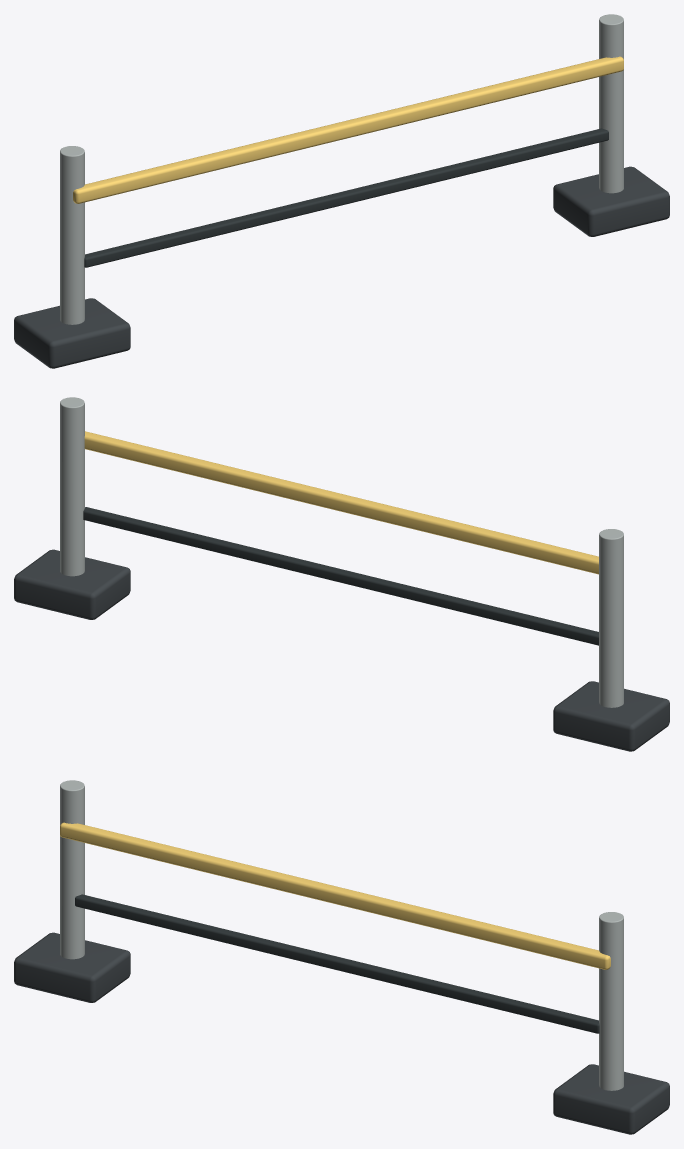
Rendered from age_museum_low_barrier.glb.
The picture shows the model from 3 angles, top to bottom: view 1: azimuth 30°, elevation 25°; view 2: azimuth 150°, elevation 25°; view 3: azimuth 330°, elevation 25°; orthographic projection.
Parts seen in each view (by area): view 1: age_museum_low_barrier_front_gold_rail, age_museum_low_barrier_lower_black_shadow_rail, age_museum_low_barrier_left_foot, age_museum_low_barrier_right_foot, age_museum_low_barrier_left_post, age_museum_low_barrier_right_post; view 2: age_museum_low_barrier_front_gold_rail, age_museum_low_barrier_lower_black_shadow_rail, age_museum_low_barrier_left_foot, age_museum_low_barrier_right_foot, age_museum_low_barrier_left_post, age_museum_low_barrier_right_post; view 3: age_museum_low_barrier_front_gold_rail, age_museum_low_barrier_lower_black_shadow_rail, age_museum_low_barrier_right_foot, age_museum_low_barrier_left_foot, age_museum_low_barrier_right_post, age_museum_low_barrier_left_post.
Boxes of the visible parts, left/top/right/bottom form: age_museum_low_barrier_front_gold_rail: left=73, top=56, right=623, bottom=203; age_museum_low_barrier_lower_black_shadow_rail: left=84, top=128, right=608, bottom=267; age_museum_low_barrier_left_foot: left=14, top=298, right=130, bottom=368; age_museum_low_barrier_right_foot: left=553, top=166, right=669, bottom=236; age_museum_low_barrier_left_post: left=60, top=146, right=84, bottom=324; age_museum_low_barrier_right_post: left=599, top=14, right=623, bottom=193; age_museum_low_barrier_front_gold_rail: left=84, top=431, right=598, bottom=574; age_museum_low_barrier_lower_black_shadow_rail: left=83, top=507, right=598, bottom=645; age_museum_low_barrier_left_foot: left=553, top=681, right=669, bottom=751; age_museum_low_barrier_right_foot: left=14, top=549, right=130, bottom=619; age_museum_low_barrier_left_post: left=599, top=529, right=623, bottom=707; age_museum_low_barrier_right_post: left=60, top=397, right=84, bottom=576; age_museum_low_barrier_front_gold_rail: left=60, top=822, right=610, bottom=969; age_museum_low_barrier_lower_black_shadow_rail: left=75, top=894, right=599, bottom=1033; age_museum_low_barrier_right_foot: left=553, top=1064, right=669, bottom=1134; age_museum_low_barrier_left_foot: left=14, top=932, right=130, bottom=1002; age_museum_low_barrier_right_post: left=599, top=912, right=623, bottom=1090; age_museum_low_barrier_left_post: left=60, top=780, right=84, bottom=959.
Bounding box in the file's own units: 2.58 × 0.78 × 0.28.
